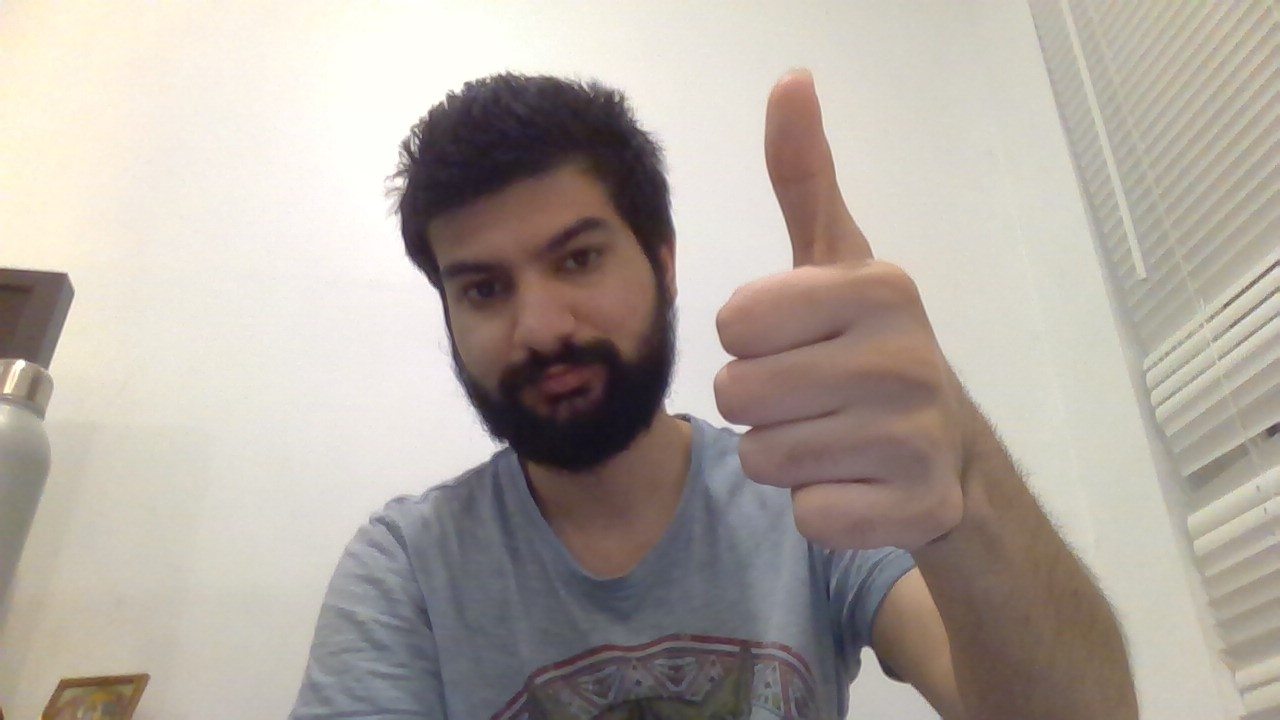up: (708, 49, 972, 561)
